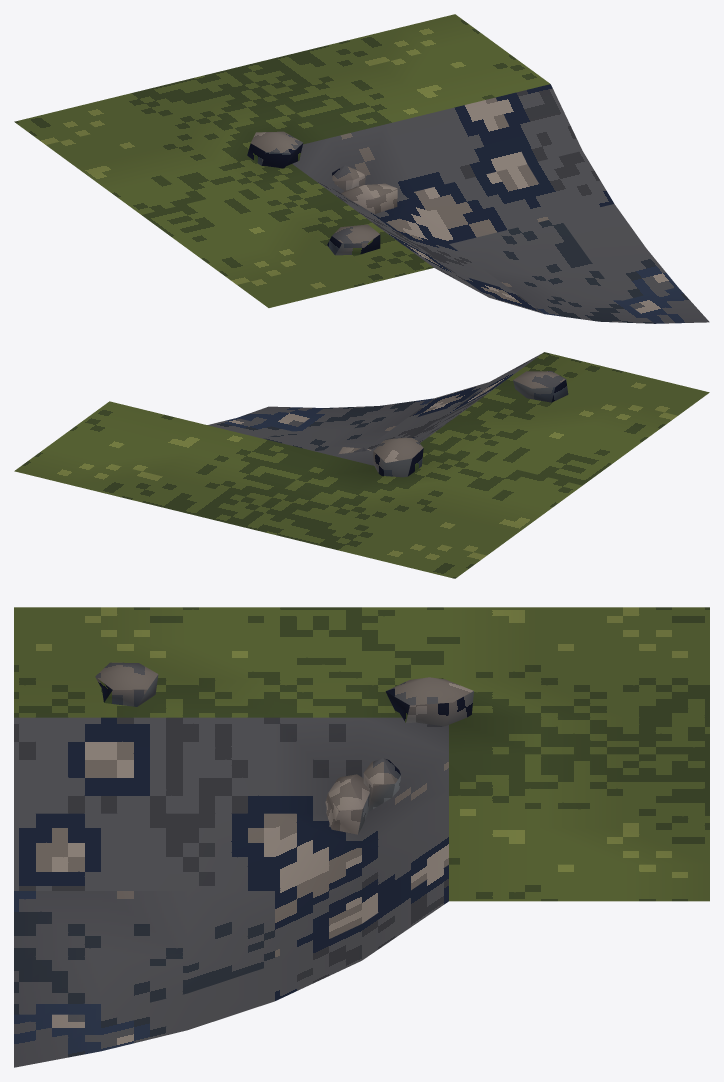
Rendered from lake.shore__corner_in.glb.
3 views of the same model, one above another, from view 1: azimuth 30°, elevation 25°; view 2: azimuth 150°, elevation 25°; view 3: azimuth 270°, elevation 25° (orthographic). The views are drawn at different scales.
Parts seen in each view (by area): view 1: kit_shell_bank, kit_stones; view 2: kit_shell_bank, kit_stones; view 3: kit_shell_bank, kit_stones.
Boxes of the visible parts, x1,y1,x2,y2 form: kit_shell_bank: [14, 14, 709, 323]; kit_stones: [247, 131, 397, 255]; kit_shell_bank: [14, 352, 709, 578]; kit_stones: [338, 371, 568, 477]; kit_shell_bank: [14, 607, 709, 1067]; kit_stones: [95, 662, 473, 834].
Size of the model in its own units: 4 by 1.28 by 4.
4 materials, 4 textured.
